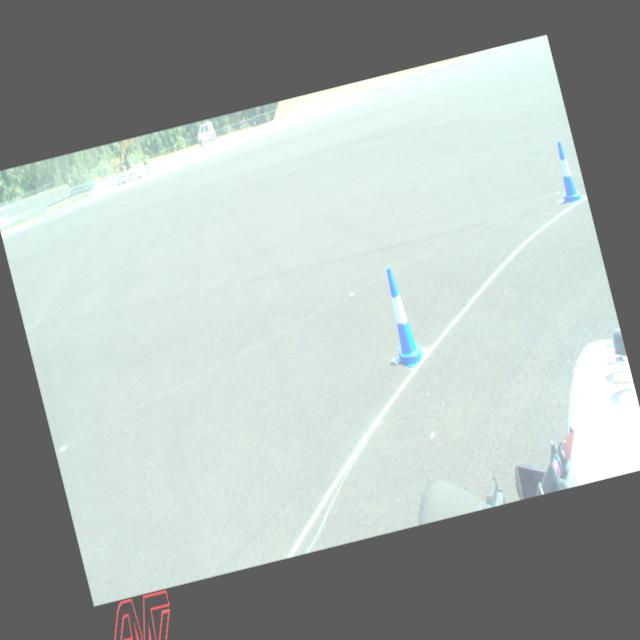blue_cone: (373, 262, 428, 372), (548, 139, 582, 204)
